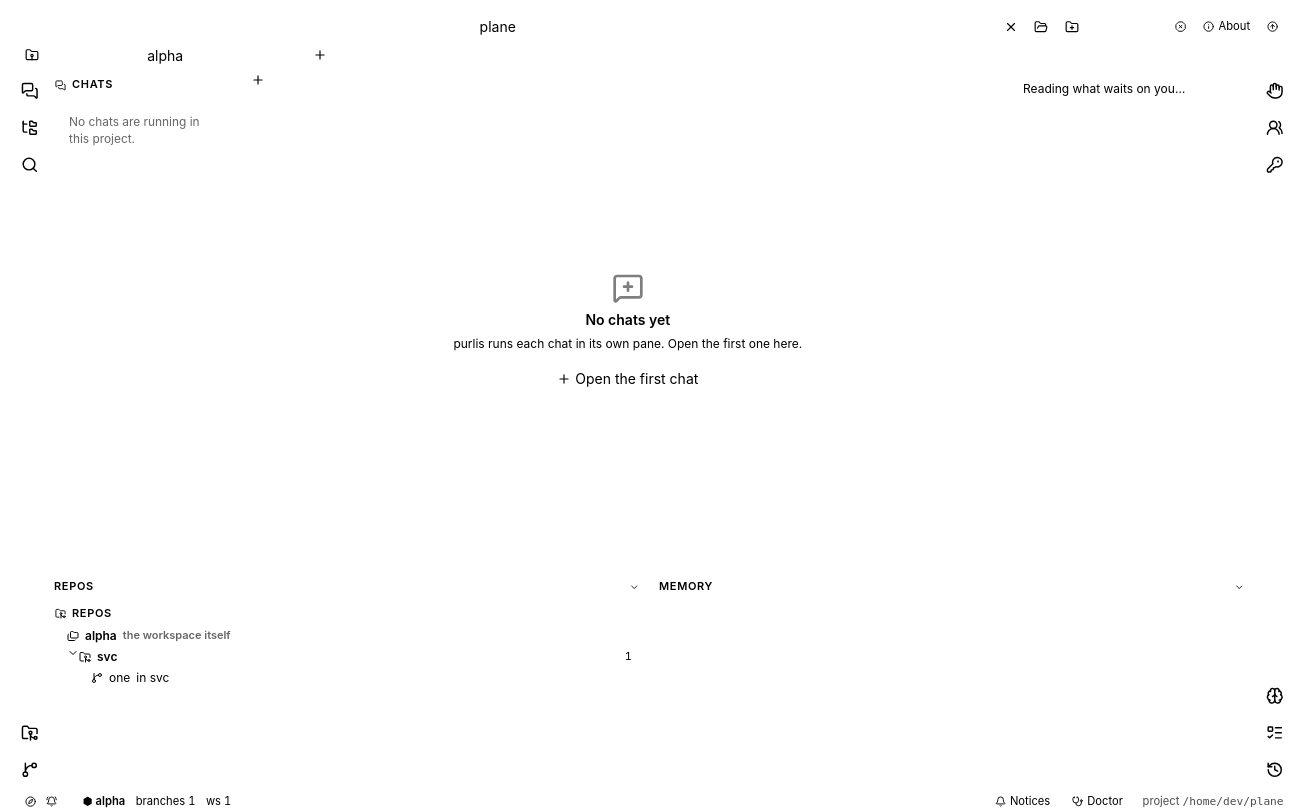
it: Start a chat here, from a file's preview (#1151) › says the core's refusal where the window says what an action answered
Click the tab named "Explorer". click: [30, 128]
box: [12,110,47,145]
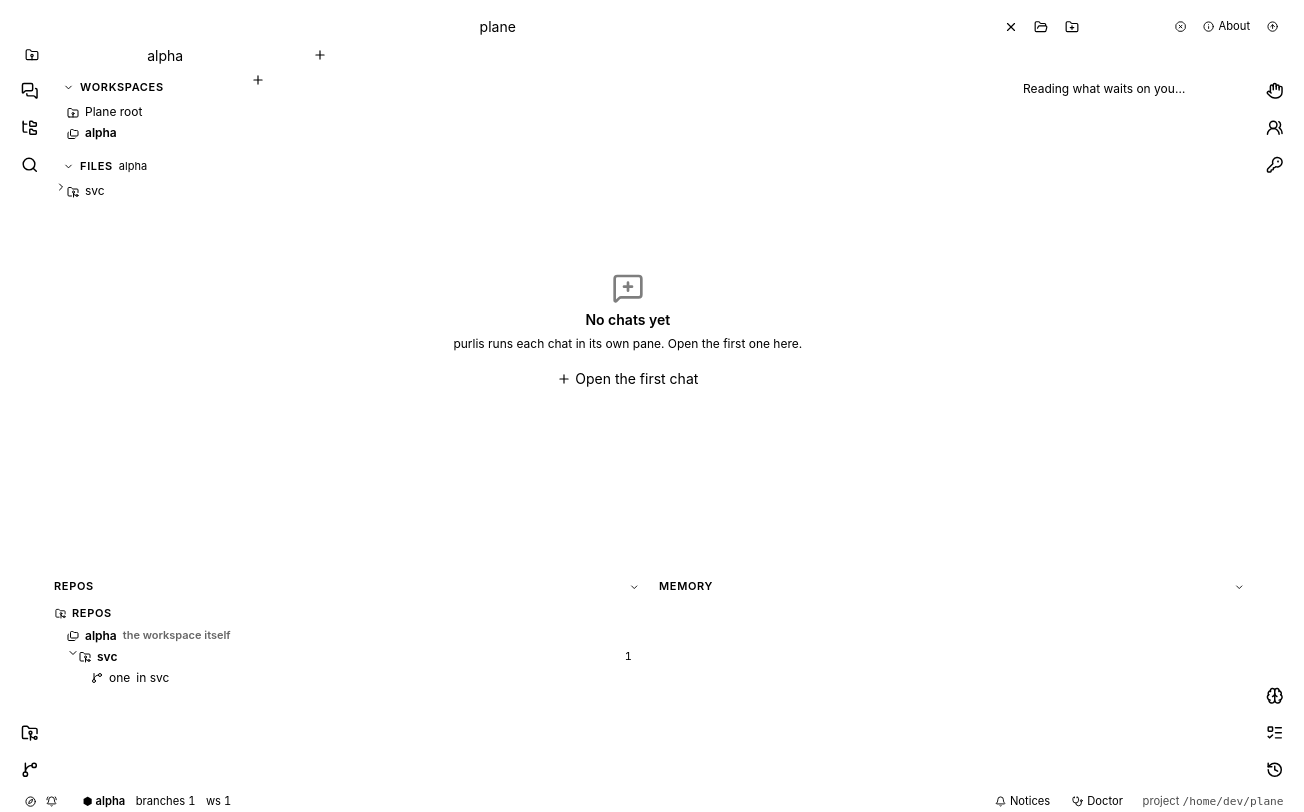
Click the list item "one in svc". click: [97, 678]
box: [55,668,644,688]
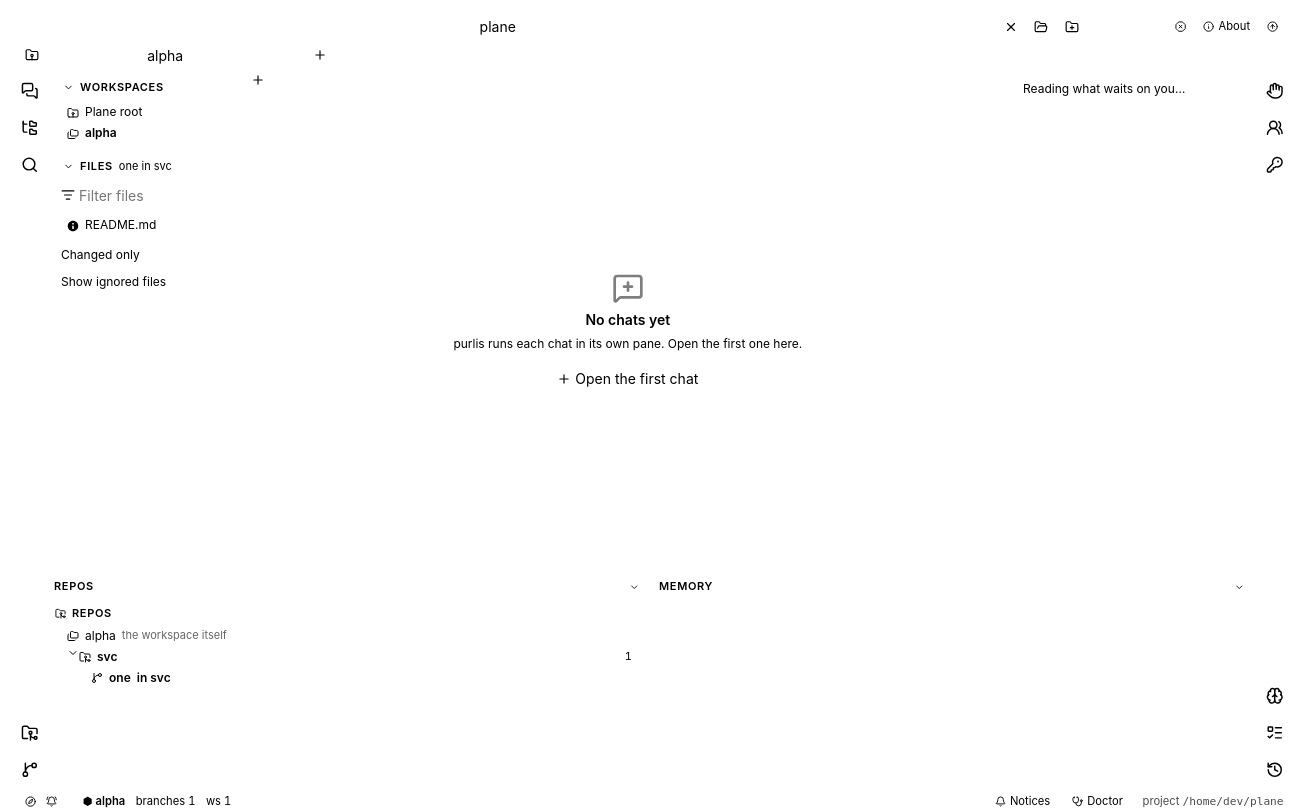
Click the list item "README.md". click: [144, 226]
box: [55,215,233,236]
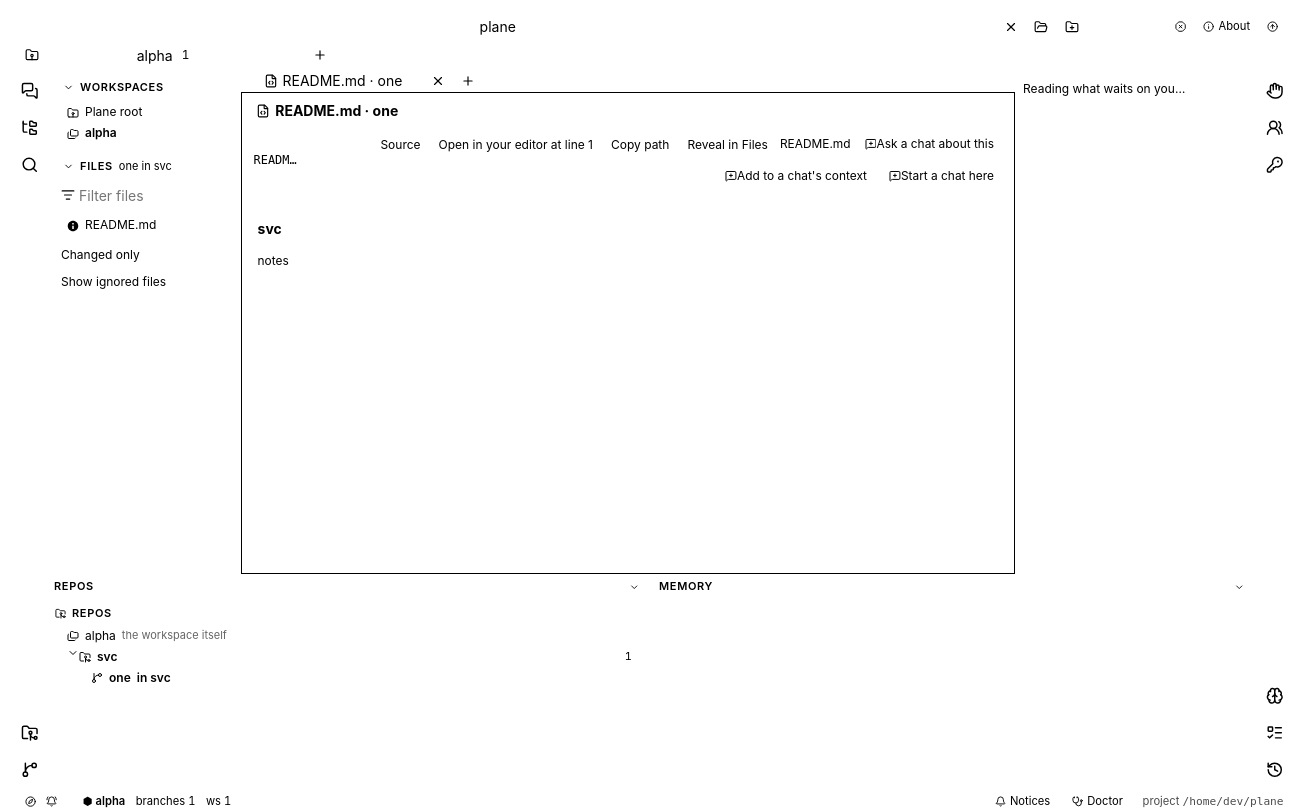
Click the button with aria-label "Start a chat here on README.md". click: [942, 177]
box: [881,164,1002,190]
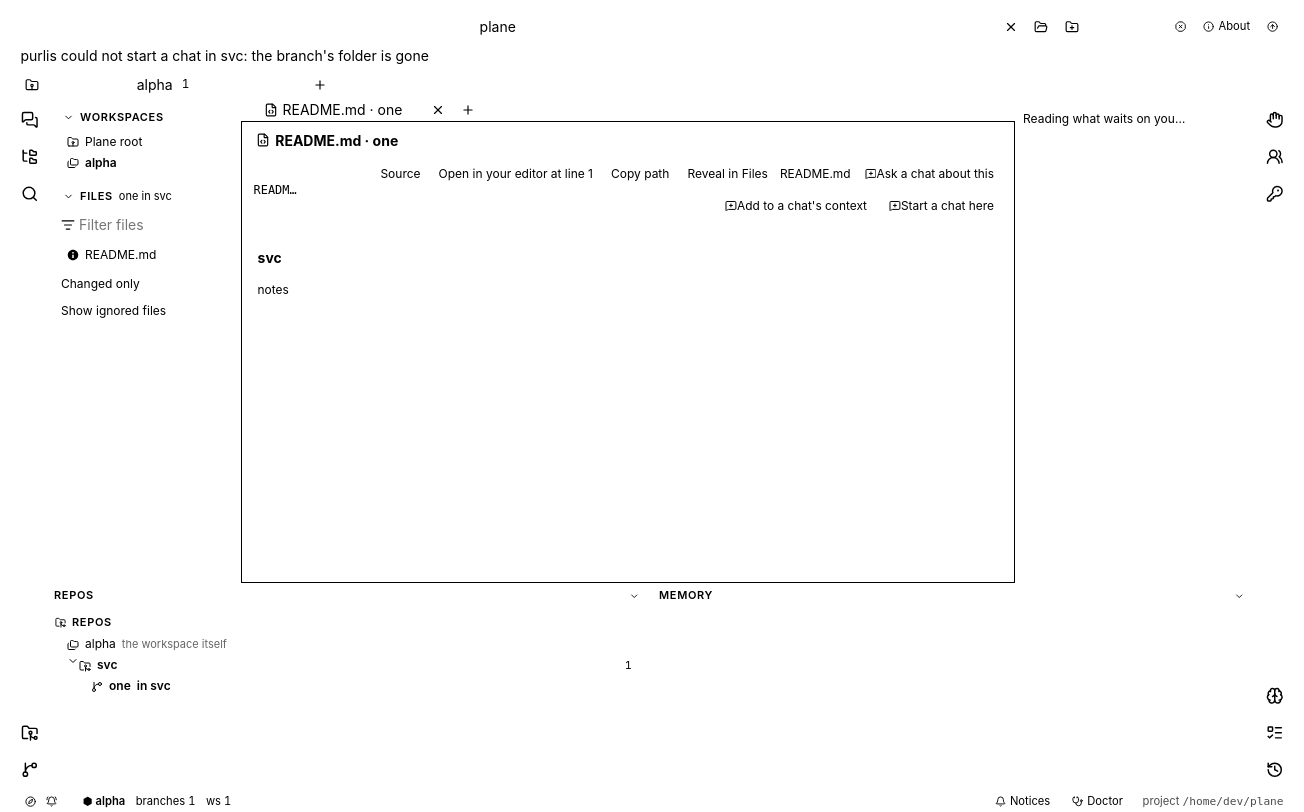
expect the text "purlis could not start a chat in svc: the branch's folder is gone" is shown: met, box [20,47,429,64]
